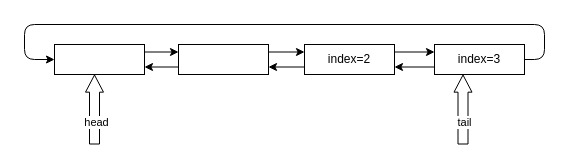
Some shapes in this 570 by 162 pixel diagram are drawn without their labels. Each missing label, with the box of its shape:
index=0: (54, 44, 144, 74)
index=1: (178, 44, 268, 74)
